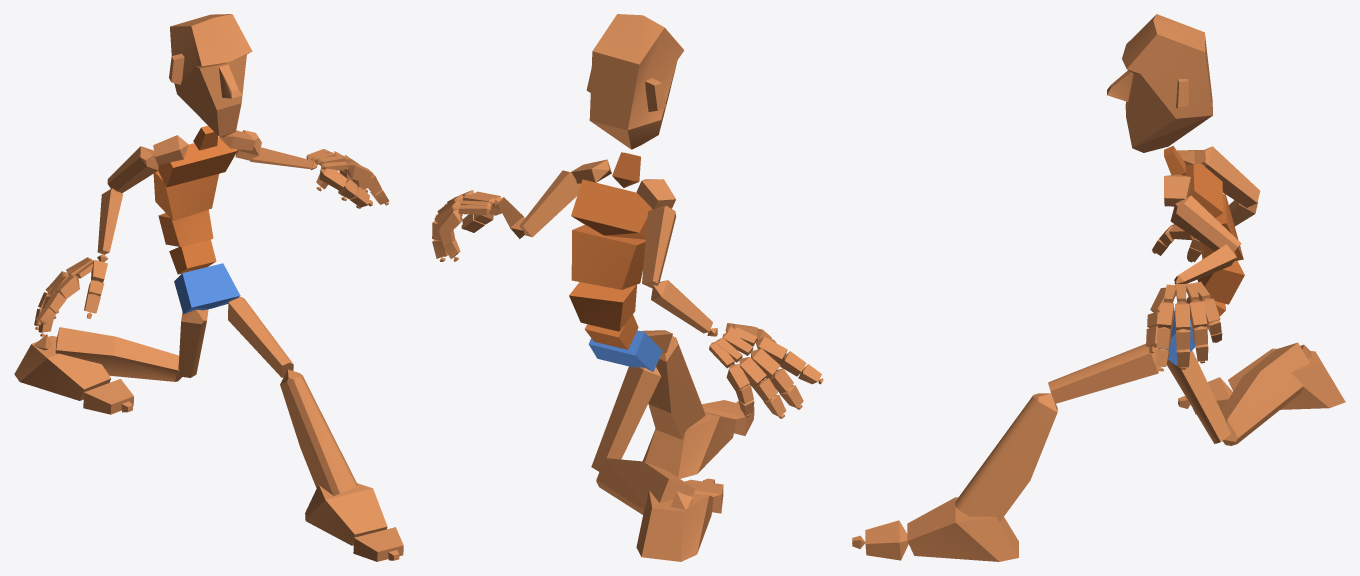
3 renders of one model, left to right at view 1: azimuth 30°, elevation 25°; view 2: azimuth 150°, elevation 25°; view 3: azimuth 270°, elevation 25°, orthographic. The views are drawn at different scales.
Parts seen in each view (by area): view 1: BOPED_Head, BOPED_L_leg, BOPED_R_leg, BOPED_R_foot01, BOPED_R_foot, Bone01, Bone04, Bone05, BOPED_L_legup, BOPED_R_legup, Bone03, BOPED_R_arm_upper (+7 smaller); view 2: BOPED_Head, BOPED_R_foot, Bone04, BOPED_R_foot01, BOPED_L_leg, Bone05, BOPED_R_leg, BOPED_R_legup, Bone03, BOPED_R_arm_upper, BOPED_L_arm_upper, Bone01 (+9 smaller); view 3: BOPED_Head, BOPED_L_leg, BOPED_R_foot01, BOPED_R_leg, BOPED_L_legup, BOPED_R_foot, BOPED_R_legup, BOPED_L_arm_upper, BOPED_R_arm_upper, BOPED_R_foot_toe04, Bone05, Bone03 (+3 smaller).
Part boxes in pixels (left/top/right/bottom): BOPED_Head: left=169, top=14, right=252, bottom=137; BOPED_L_leg: left=280, top=369, right=357, bottom=495; BOPED_R_leg: left=55, top=327, right=181, bottom=381; BOPED_R_foot01: left=305, top=483, right=387, bottom=545; BOPED_R_foot: left=14, top=335, right=110, bottom=400; Bone01: left=174, top=263, right=240, bottom=314; Bone04: left=153, top=171, right=218, bottom=220; Bone05: left=158, top=136, right=237, bottom=187; BOPED_L_legup: left=228, top=296, right=293, bottom=377; BOPED_R_legup: left=178, top=309, right=208, bottom=377; Bone03: left=158, top=209, right=213, bottom=246; BOPED_R_arm_upper: left=107, top=146, right=158, bottom=193; BOPED_Head: left=586, top=14, right=684, bottom=149; BOPED_R_foot: left=636, top=490, right=713, bottom=561; Bone04: left=571, top=225, right=645, bottom=289; BOPED_R_foot01: left=643, top=412, right=736, bottom=478; BOPED_L_leg: left=648, top=336, right=705, bottom=439; Bone05: left=571, top=179, right=652, bottom=239; BOPED_R_leg: left=596, top=458, right=695, bottom=514; BOPED_R_legup: left=591, top=366, right=661, bottom=471; Bone03: left=569, top=282, right=636, bottom=331; BOPED_R_arm_upper: left=642, top=205, right=676, bottom=288; BOPED_L_arm_upper: left=519, top=170, right=580, bottom=237; Bone01: left=588, top=330, right=662, bottom=371; BOPED_Head: left=1107, top=14, right=1212, bottom=152; BOPED_L_leg: left=955, top=393, right=1057, bottom=522; BOPED_R_foot01: left=907, top=497, right=1018, bottom=561; BOPED_R_leg: left=1221, top=342, right=1309, bottom=445; BOPED_L_legup: left=1048, top=343, right=1160, bottom=403; BOPED_R_foot: left=1228, top=348, right=1345, bottom=409; BOPED_R_legup: left=1166, top=350, right=1230, bottom=443; BOPED_L_arm_upper: left=1170, top=195, right=1241, bottom=252; BOPED_R_arm_upper: left=1201, top=146, right=1260, bottom=207; BOPED_R_foot_toe04: left=865, top=520, right=908, bottom=560; Bone05: left=1184, top=163, right=1223, bottom=218; Bone03: left=1197, top=258, right=1244, bottom=304.
Size of the model in its own units: 130 by 165 by 146.
